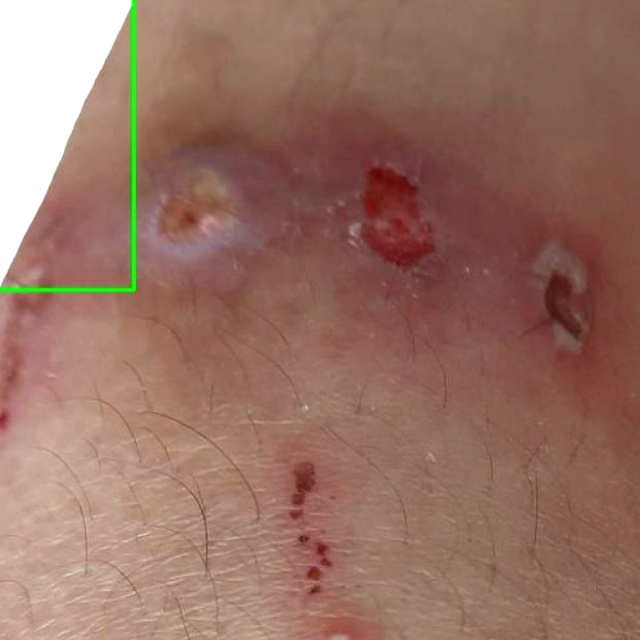Contact Dermatitis: (0, 0, 134, 289)
